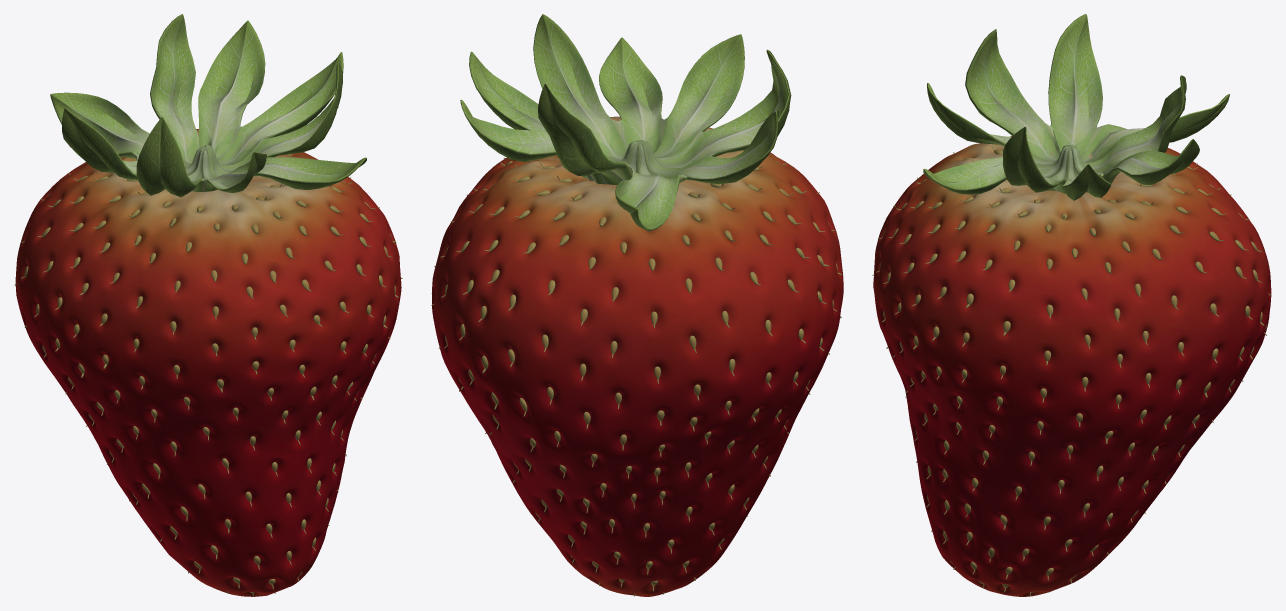
Rendered from strawberry.glb.
3 views of the same model, side by side, from view 1: azimuth 30°, elevation 25°; view 2: azimuth 150°, elevation 25°; view 3: azimuth 270°, elevation 25° (orthographic). The views are drawn at different scales.
Visible parts, largest first — view 1: Mesh; view 2: Mesh; view 3: Mesh.
Boxes of the visible parts, left/top/right/bottom form: Mesh: left=14, top=14, right=402, bottom=596; Mesh: left=431, top=14, right=843, bottom=596; Mesh: left=872, top=14, right=1271, bottom=596.
Bounding box in the file's own units: 2.54 × 3.82 × 2.66.
Materials: 1 (1 with a texture image).
